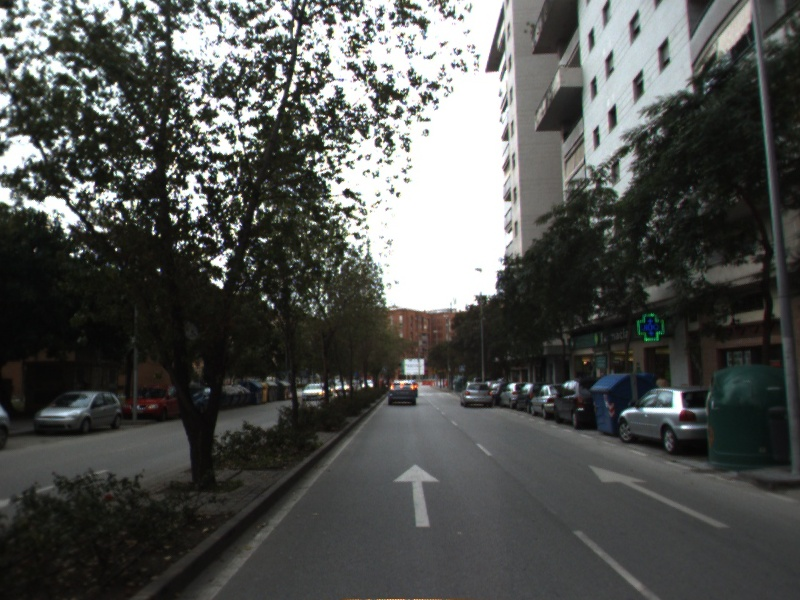STRAIGHT: (586, 463, 732, 530), (391, 461, 443, 528)
